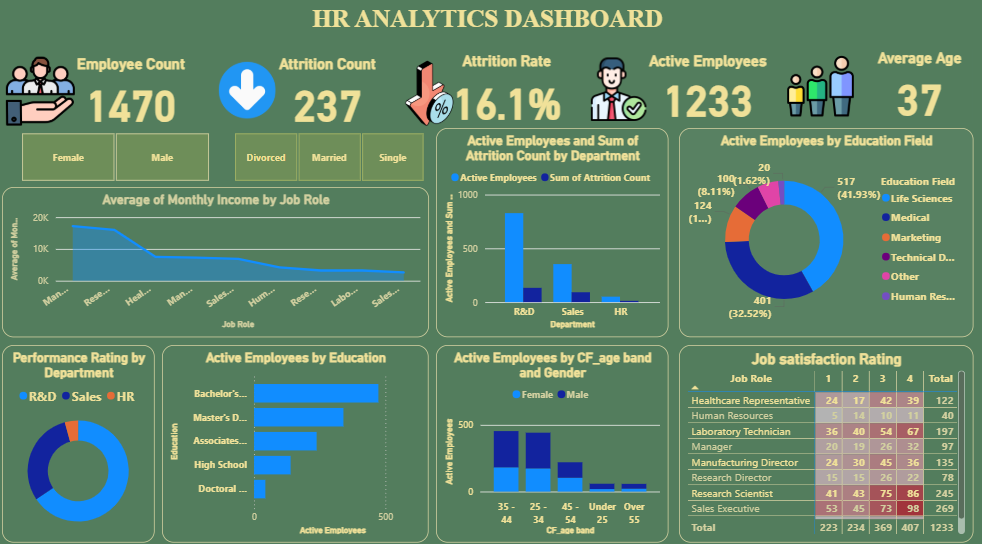

This screenshot's page, from the dashboard's own definition file:
{"tool":"powerbi","page":{"name":"Page 1","canvas":[1280,720],"ordinal":0},"visuals":[{"type":"card","title":"Employee Count","fields":{"Values":["Sum(HR data.Employee Count)"]},"box":[107.7,73.7,165.8,100.6],"z":0},{"type":"clusteredColumnChart","fields":{"Category":["HR data.Department"],"Y":["HR data.Active Employees","Sum(HR data.Attrition Count)"]},"box":[570.8,174.1,299.7,269.7],"z":0},{"type":"card","title":"Attrition Count","fields":{"Values":["Sum(HR data.Attrition Count)"]},"box":[345.8,75.1,165.8,96.4],"z":1000},{"type":"donutChart","fields":{"Y":["HR data.Active Employees"],"Category":["HR data.Education Field"]},"box":[883.3,174.1,379.6,269.7],"z":1000},{"type":"card","title":"Attrition Rate","fields":{"Values":["HR data.Attrition Rate"]},"box":[578.3,76.5,167.2,97.8],"z":2000},{"type":"columnChart","fields":{"Category":["HR data.CF_age band"],"Y":["HR data.Active Employees"],"Series":["HR data.Gender"]},"box":[570.8,453.8,299.7,255.4],"z":2000},{"type":"card","title":"Active Employees","fields":{"Values":["HR data.Active Employees"]},"box":[836.2,76.5,170.1,92.1],"z":3000},{"type":"pivotTable","title":"Job satisfaction  Rating","fields":{"Rows":["HR data.Job Role"],"Columns":["HR data.Job Satisfaction"],"Values":["HR data.Active Employees"]},"box":[883.3,453.8,379.6,255.4],"z":3000},{"type":"card","title":"Average Age","fields":{"Values":["Avg(HR data.Age)"]},"box":[1126.8,72.3,136.1,96.4],"z":4000},{"type":"donutChart","title":"Performance Rating by Department","fields":{"Category":["HR data.Department"],"Y":["Sum(HR data.Performance Rating)"]},"box":[10,453.8,196.9,255.4],"z":4000},{"type":"clusteredBarChart","fields":{"Category":["HR data.Education"],"Y":["HR data.Active Employees"]},"box":[216.9,453.8,343.9,255.4],"z":5000},{"type":"areaChart","fields":{"Category":["HR data.Job Role"],"Y":["Avg(HR data.Monthly Income)"]},"box":[10,249.7,550.8,194.1],"z":6000},{"type":"slicer","fields":{"Values":["HR data.Gender"]},"box":[9.9,174.3,290.6,75.1],"z":7000},{"type":"slicer","fields":{"Values":["HR data.Marital Status"]},"box":[284.9,174.3,293.4,75.1],"z":8000},{"type":"image","box":[1006.3,72.3,120.5,96.4],"z":9001},{"type":"image","box":[759.7,76.5,92.1,96.4],"z":9002},{"type":"image","box":[9.9,76.5,99.2,100.6],"z":9003},{"type":"image","box":[263.6,72.3,82.2,100.6],"z":9004},{"type":"image","box":[511.7,75.1,99.2,109.1],"z":9005},{"type":"textbox","box":[10.3,10.3,1252.9,50.3],"z":9006}]}

Visuals, with their boxes in screenshot pixels (x1, y1, x2, y2), scaled from the page's 1280x720 canvas onto the 982x544 screenshot:
"Employee Count" card: {"left": 83, "top": 56, "right": 210, "bottom": 132}
clusteredColumnChart - HR data.Department x HR data.Active Employees: {"left": 438, "top": 132, "right": 668, "bottom": 335}
"Attrition Count" card: {"left": 265, "top": 57, "right": 392, "bottom": 130}
donutChart - HR data.Active Employees x HR data.Education Field: {"left": 678, "top": 132, "right": 969, "bottom": 335}
"Attrition Rate" card: {"left": 444, "top": 58, "right": 572, "bottom": 132}
columnChart - HR data.CF_age band x HR data.Active Employees: {"left": 438, "top": 343, "right": 668, "bottom": 536}
"Active Employees" card: {"left": 642, "top": 58, "right": 772, "bottom": 127}
"Job satisfaction  Rating" pivotTable: {"left": 678, "top": 343, "right": 969, "bottom": 536}
"Average Age" card: {"left": 864, "top": 55, "right": 969, "bottom": 127}
"Performance Rating by Department" donutChart: {"left": 8, "top": 343, "right": 159, "bottom": 536}
clusteredBarChart - HR data.Education x HR data.Active Employees: {"left": 166, "top": 343, "right": 430, "bottom": 536}
areaChart - HR data.Job Role x Avg(HR data.Monthly Income): {"left": 8, "top": 189, "right": 430, "bottom": 335}
slicer - HR data.Gender: {"left": 8, "top": 132, "right": 231, "bottom": 188}
slicer - HR data.Marital Status: {"left": 219, "top": 132, "right": 444, "bottom": 188}
image: {"left": 772, "top": 55, "right": 864, "bottom": 127}
image: {"left": 583, "top": 58, "right": 653, "bottom": 131}
image: {"left": 8, "top": 58, "right": 84, "bottom": 134}
image: {"left": 202, "top": 55, "right": 265, "bottom": 131}
image: {"left": 393, "top": 57, "right": 469, "bottom": 139}
textbox: {"left": 8, "top": 8, "right": 969, "bottom": 46}
